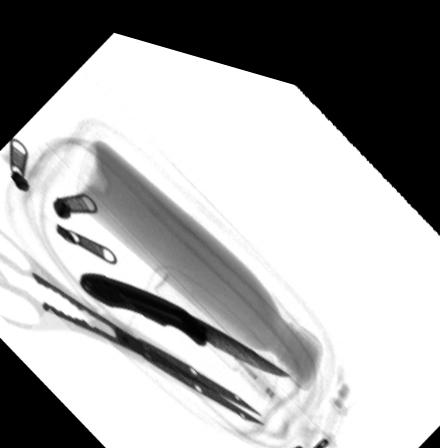Knife: (78, 267, 290, 360)
Scissors: (0, 230, 263, 410)
